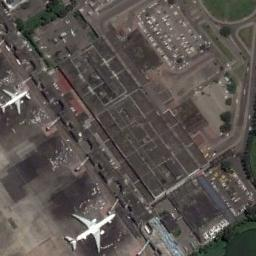Airplane: (62, 209, 127, 255), (0, 88, 31, 114)
